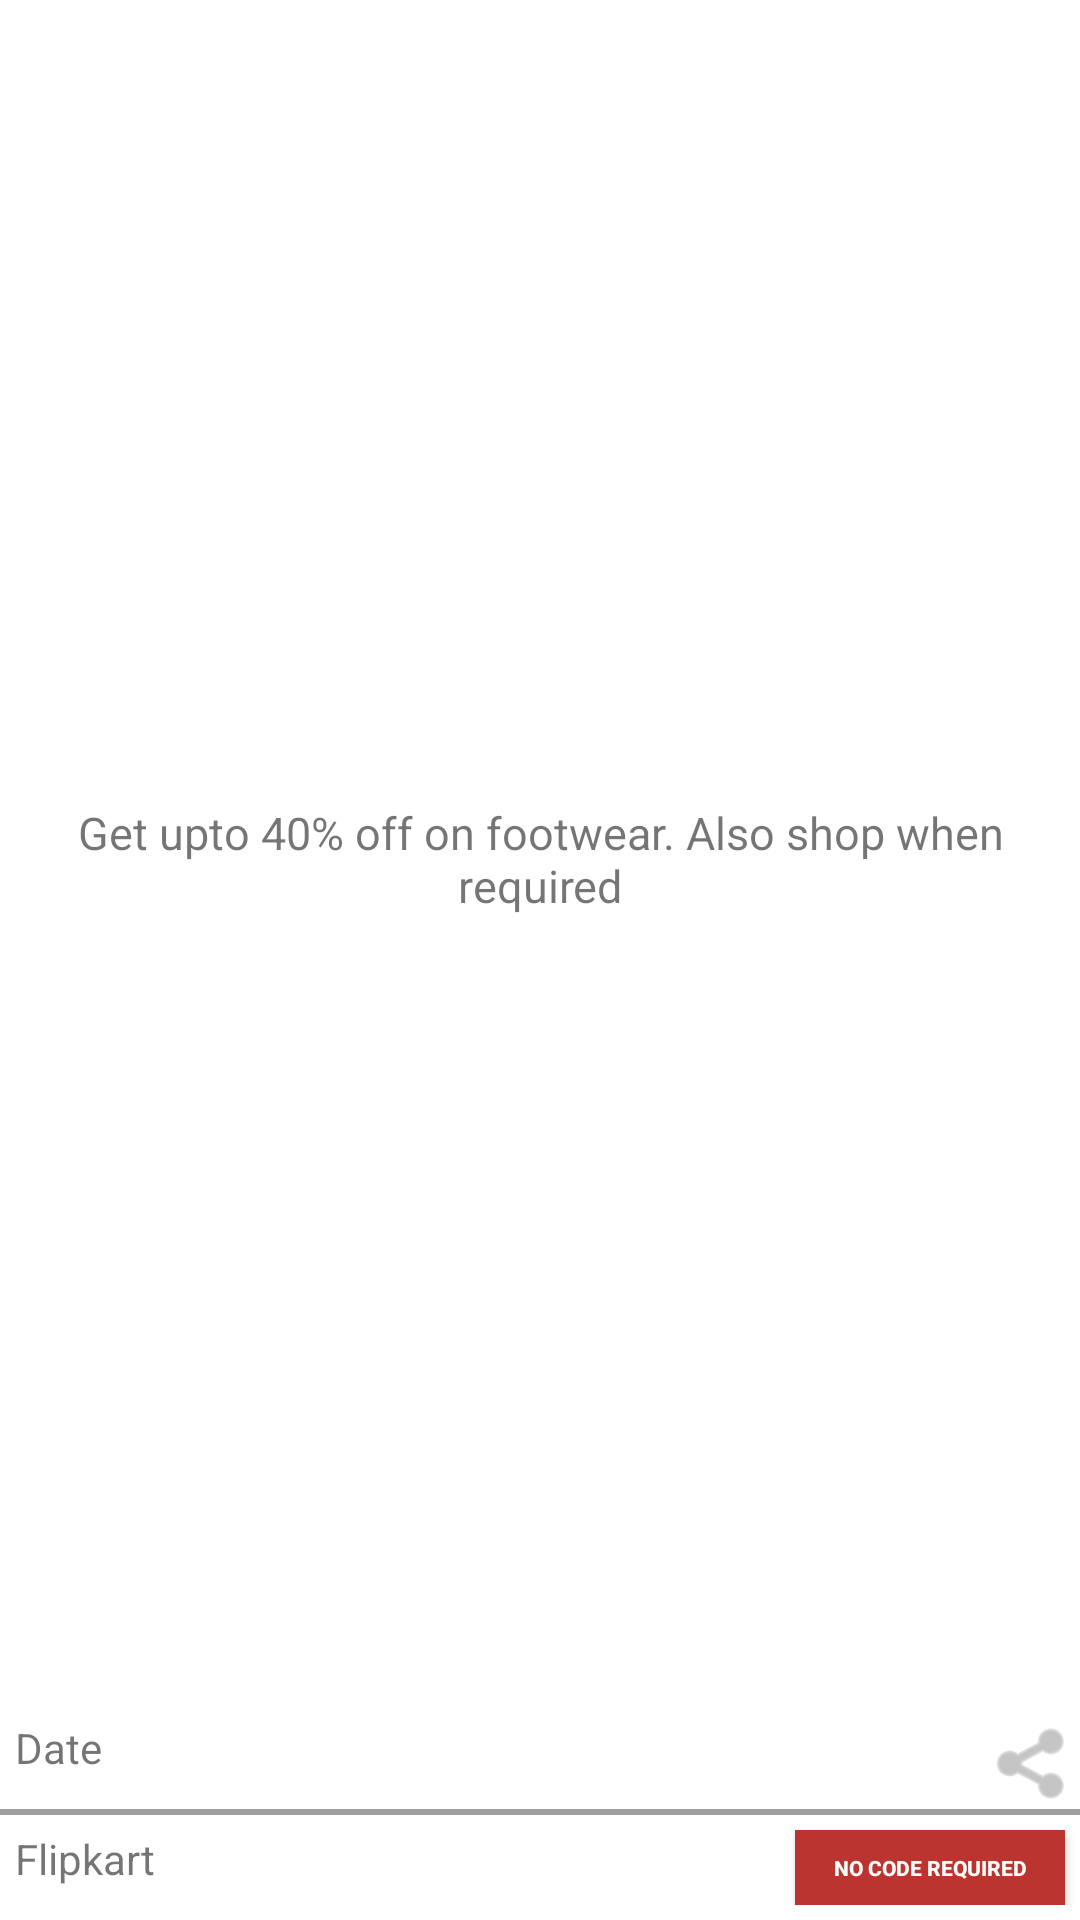

Where icons sit on this 1080*1920 app screen, as (x1, y1, x2, y2):
share: (997, 1729, 1064, 1798)
